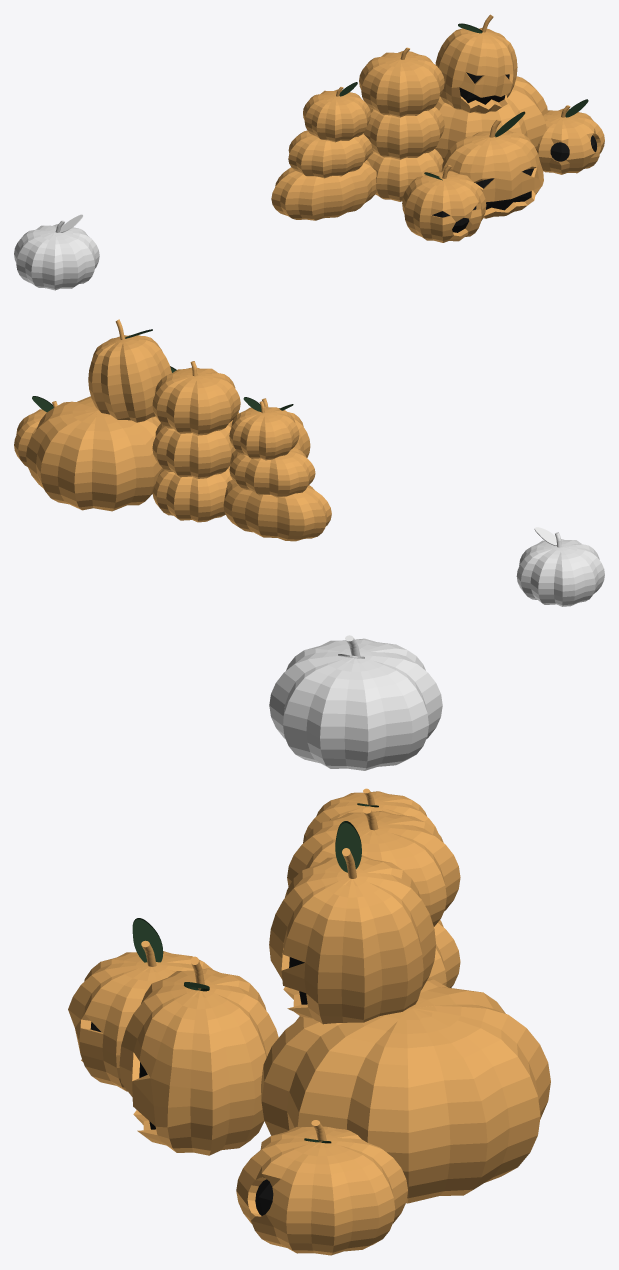
File: pumpkinScene.fbx
3 renders of one model, top to bottom at view 1: azimuth 30°, elevation 25°; view 2: azimuth 150°, elevation 25°; view 3: azimuth 270°, elevation 25°, orthographic. The views are drawn at different scales.
Visible parts, largest first — view 1: Base pumpkin.006, Base pumpkin.005, Base pumpkin.003, Base pumpkin.002, Base pumpkin.001, Base pumpkin, Base pumpkin.007, Base pumpkin.004; view 2: Base pumpkin.007, Base pumpkin.005, Base pumpkin.006, Base pumpkin.002, Base pumpkin, Base pumpkin.004, Base pumpkin.001; view 3: Base pumpkin.007, Base pumpkin.002, Base pumpkin.003, Base pumpkin, Base pumpkin.004, Base pumpkin.005, Base pumpkin.001, Base pumpkin.006.
Part boxes in pixels (x1,y1,x2,y2): Base pumpkin.006: (271, 82, 376, 220); Base pumpkin.005: (359, 47, 444, 201); Base pumpkin.003: (441, 111, 543, 218); Base pumpkin.002: (435, 14, 517, 113); Base pumpkin.001: (402, 165, 486, 242); Base pumpkin: (14, 214, 99, 290); Base pumpkin.007: (435, 76, 547, 160); Base pumpkin.004: (536, 99, 604, 174); Base pumpkin.007: (26, 396, 162, 511); Base pumpkin.005: (152, 361, 240, 522); Base pumpkin.006: (223, 397, 331, 541); Base pumpkin.002: (88, 319, 171, 422); Base pumpkin: (516, 527, 604, 606); Base pumpkin.004: (14, 396, 57, 466); Base pumpkin.001: (262, 398, 310, 457); Base pumpkin.007: (261, 979, 550, 1203); Base pumpkin.002: (269, 821, 435, 1024); Base pumpkin.003: (119, 956, 278, 1155); Base pumpkin: (269, 635, 442, 770); Base pumpkin.004: (236, 1120, 407, 1255); Base pumpkin.005: (287, 807, 460, 1021); Base pumpkin.001: (68, 918, 212, 1091); Base pumpkin.006: (303, 788, 437, 843).
Bounding box in the file's own units: 1521 × 414 × 557.
